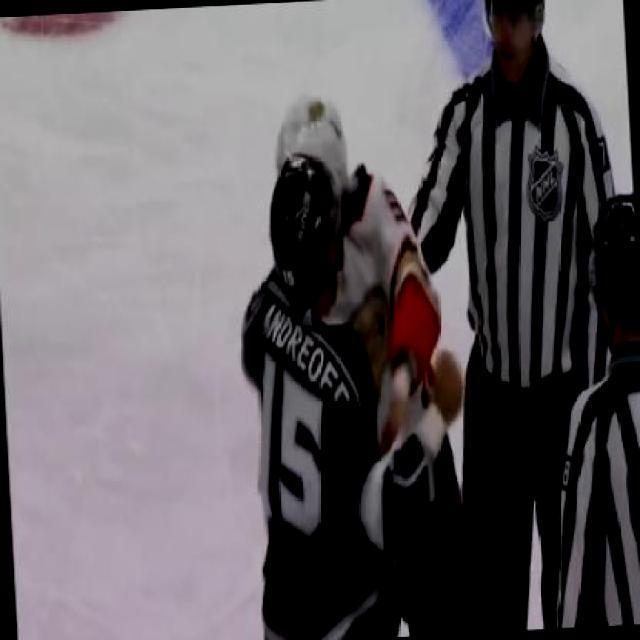fight: (214, 81, 476, 638)
